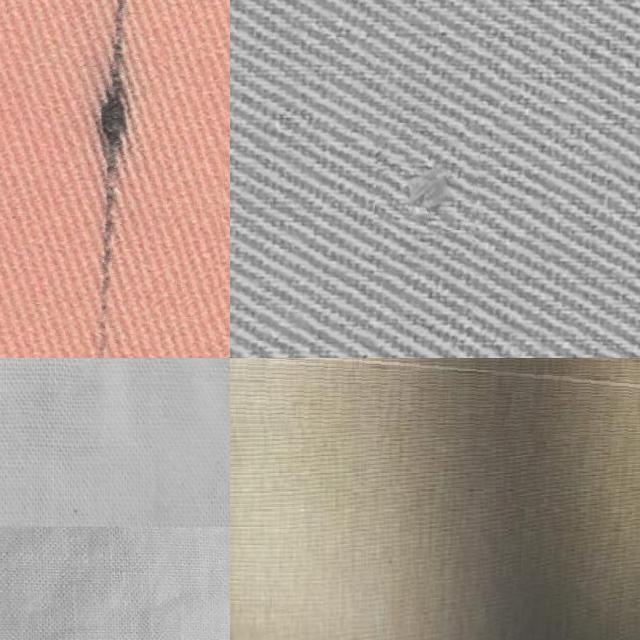Thread_other: (230, 358, 640, 443)
seam: (376, 122, 480, 228)
